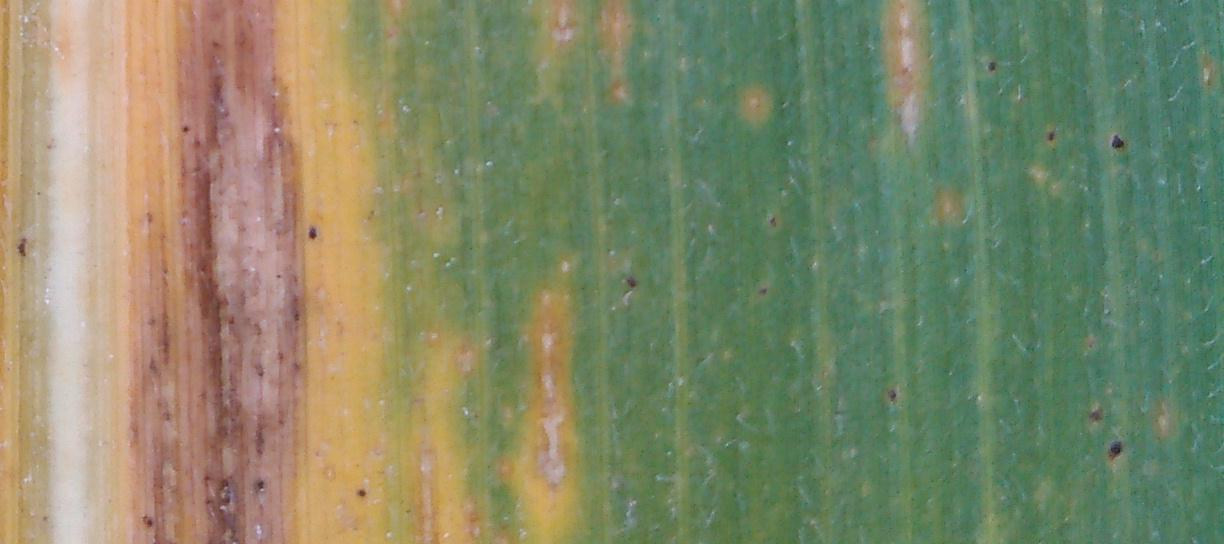tarspot: (1106, 437, 1125, 464), (15, 231, 31, 262), (135, 508, 158, 528), (620, 271, 641, 292), (305, 219, 321, 246), (981, 57, 1001, 76), (766, 207, 780, 234), (1109, 130, 1125, 153), (883, 384, 900, 405), (352, 483, 371, 501), (1086, 404, 1101, 424), (754, 284, 775, 298), (251, 477, 269, 493), (1042, 127, 1057, 145), (178, 122, 193, 137)
